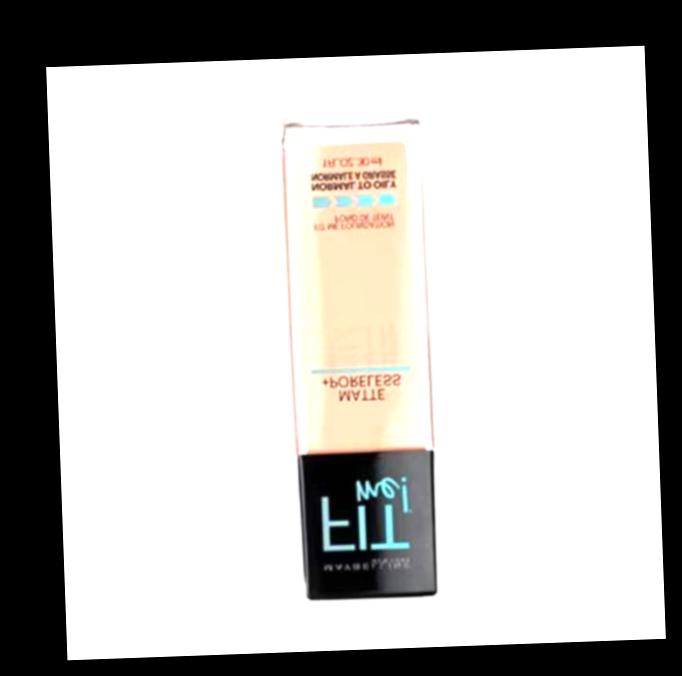cosmetic: (287, 108, 440, 601)
